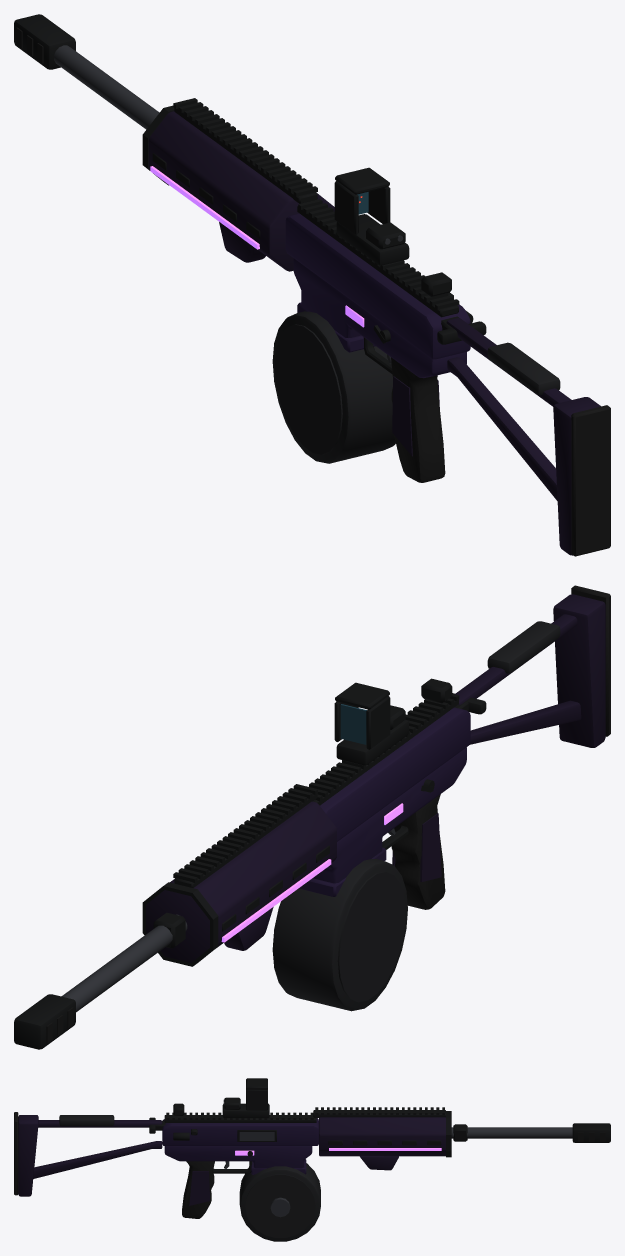
File: gun_49.glb
3 views of the same model, one above another, from view 1: azimuth 30°, elevation 25°; view 2: azimuth 150°, elevation 25°; view 3: azimuth 270°, elevation 25° (orthographic). The views are drawn at different scales.
Visible parts, largest first — view 1: gun_49; view 2: gun_49; view 3: gun_49.
Part boxes in pixels (x1,y1,x2,y2): gun_49: (14,14,610,556); gun_49: (14,585,610,1049); gun_49: (14,1078,610,1241).
Size of the model in its own units: 0.0845 by 0.3058 by 1.09.
